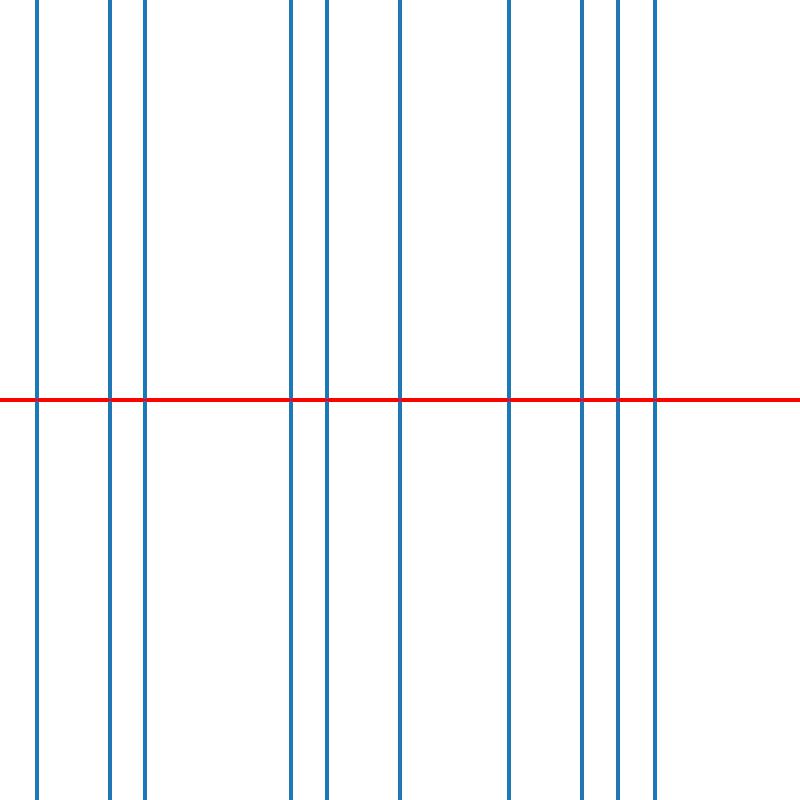root: (141, 396, 149, 404), (650, 396, 658, 404), (32, 396, 40, 404), (287, 396, 294, 404), (396, 396, 403, 404), (505, 396, 512, 404), (578, 396, 585, 404), (105, 396, 112, 404), (614, 396, 621, 404), (323, 396, 330, 404)
